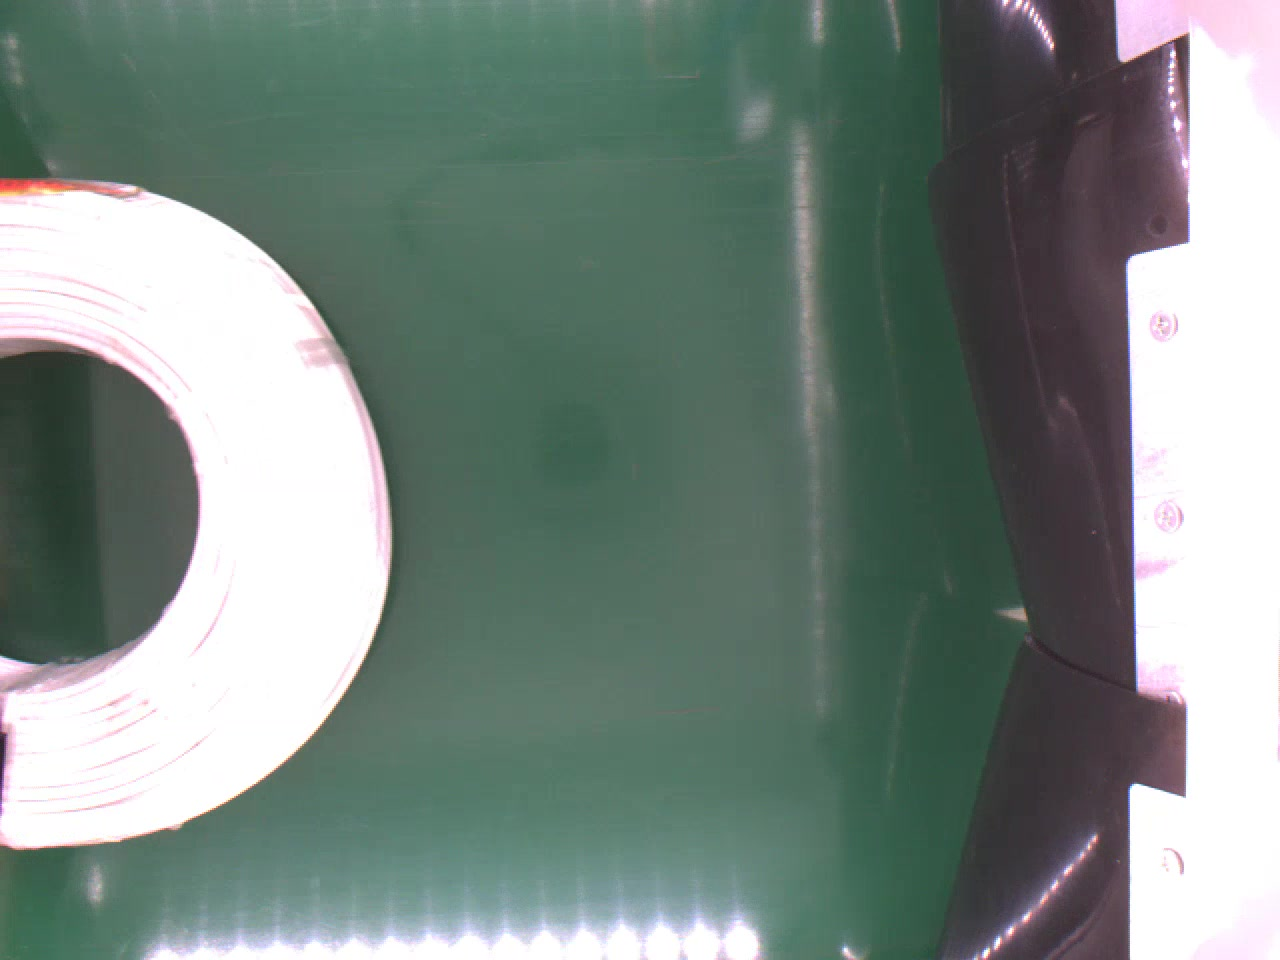white: (0, 176, 396, 850)
